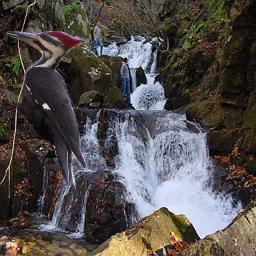Woodpecker: (5, 31, 88, 190)
